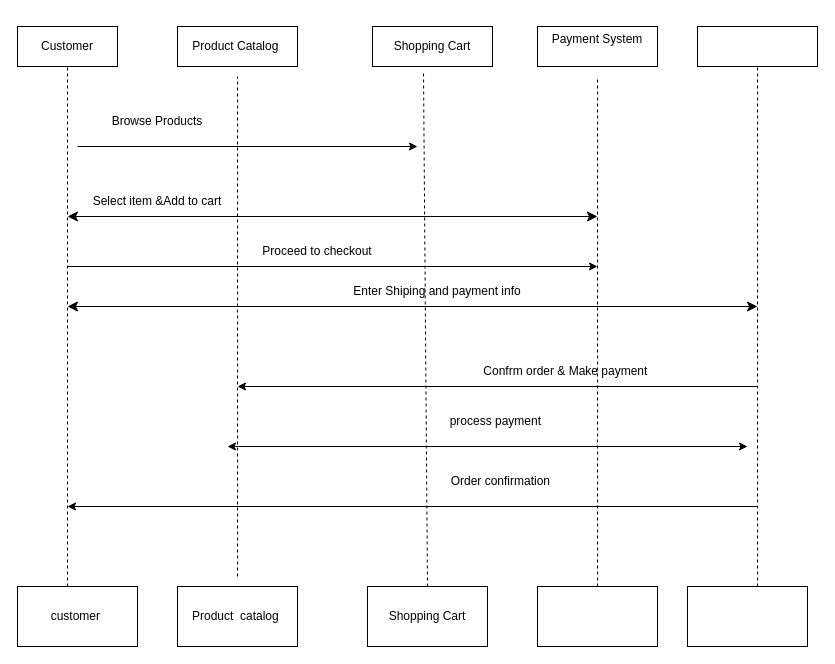
This 835x664 diagram has some shape labels left out. The centre of each missing label's shape, as x and y in pixels:
Order System: the point at 757,46
Payment Systemm: the point at 597,616
